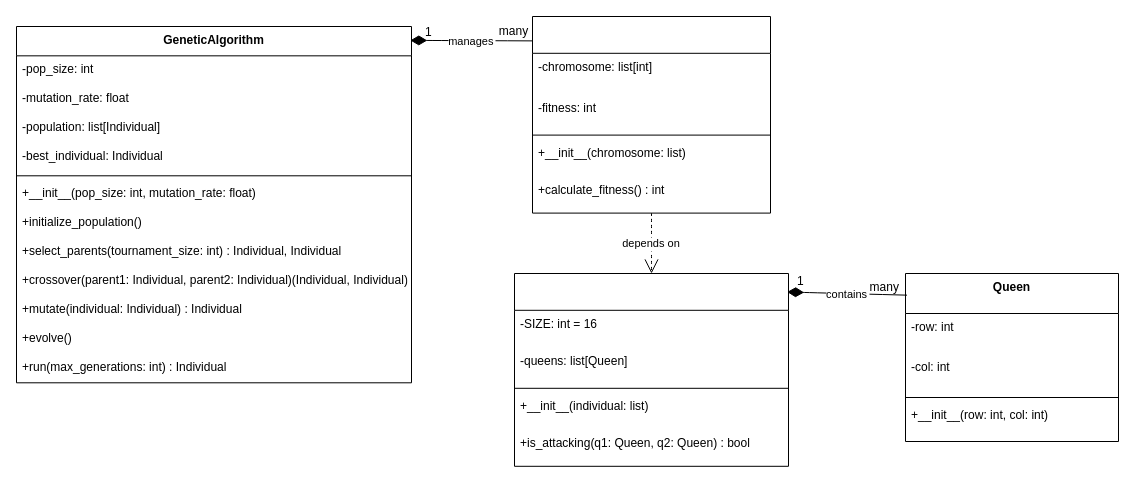
This 1135x483 diagram has some shape labels left out. Here are the shapes that lost their labels. From the top down, the box of each, then its label:
(532, 16, 770, 213): Individual
(514, 272, 788, 466): ChessBoard
